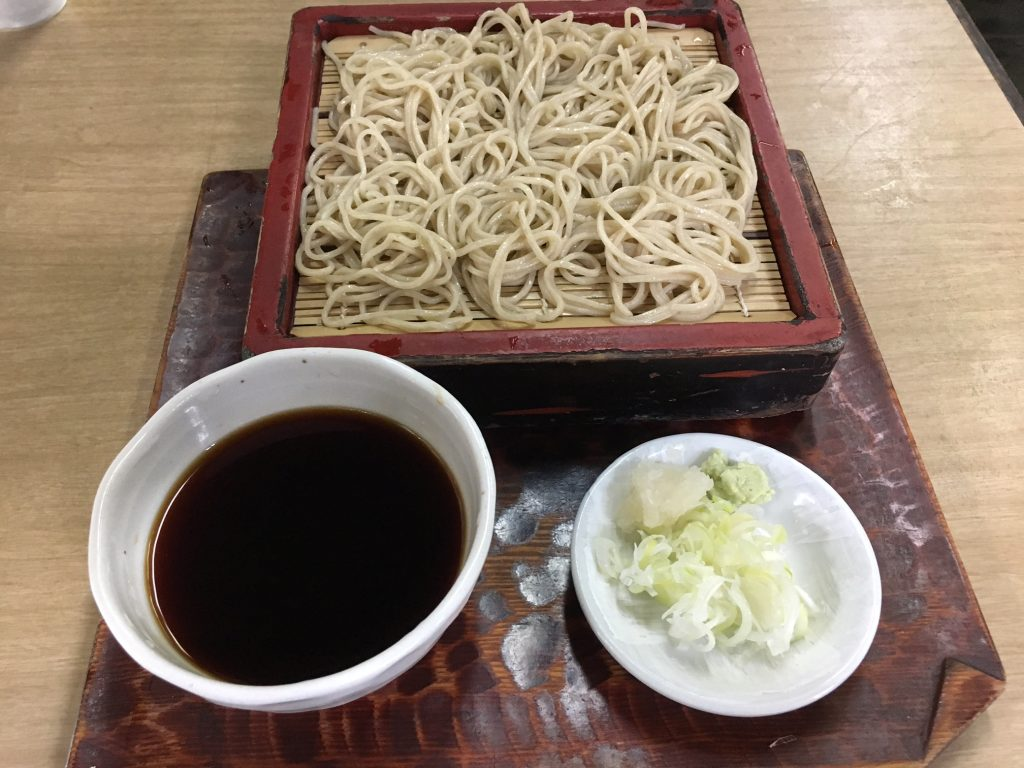Soba: (304, 7, 776, 319)
